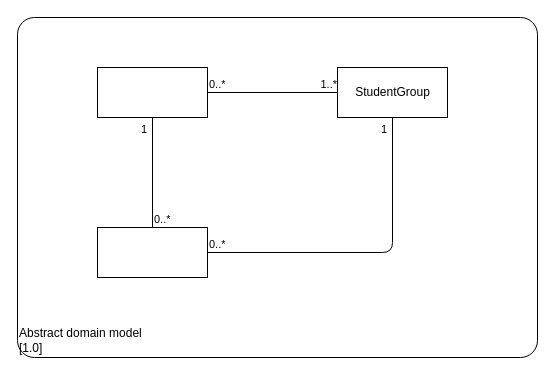
The diagram is 555 pixels wide and 375 high, and some of its shapes have lost their labels. Here are the shapes that lost their labels. From the top down, the centre of each, then its label:
point 152,92: Student
point 152,252: ProgressUpdate
